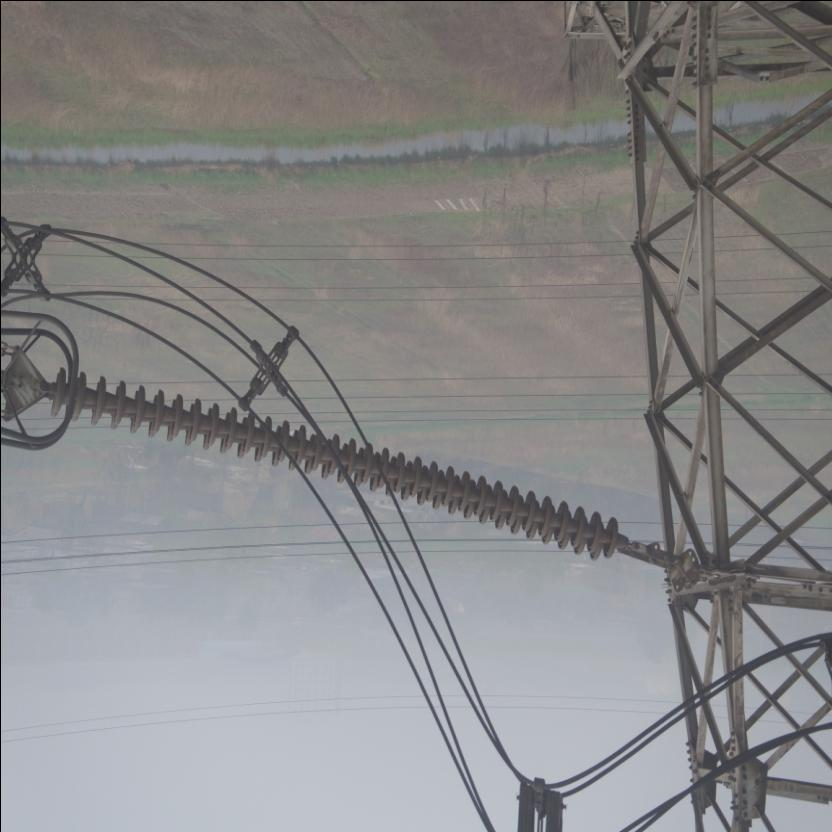insulator: (34, 362, 654, 564)
